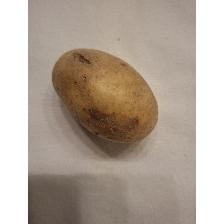Kartoffel: (50, 46, 162, 146)
